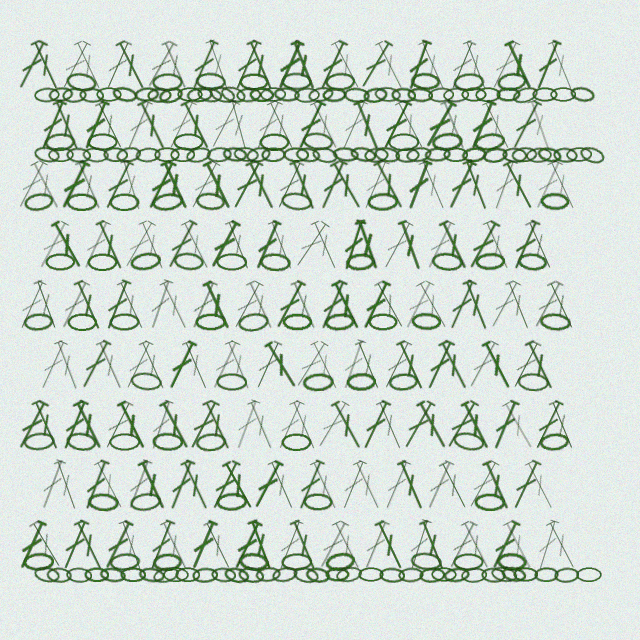chain: (129, 250, 162, 273), (452, 430, 485, 453), (324, 550, 356, 573), (65, 71, 98, 93), (473, 131, 506, 153), (151, 191, 184, 213), (237, 311, 270, 333), (129, 491, 162, 513), (23, 191, 55, 213), (280, 191, 313, 212), (65, 431, 98, 452), (496, 71, 528, 92), (302, 131, 334, 152), (431, 131, 463, 152), (431, 251, 463, 272), (130, 371, 162, 392), (23, 431, 55, 452), (410, 551, 442, 572), (195, 191, 226, 212), (173, 251, 204, 272), (238, 551, 269, 572), (453, 72, 485, 92), (44, 132, 76, 152), (259, 252, 291, 272), (539, 312, 571, 332), (302, 372, 334, 392), (517, 372, 549, 392), (195, 432, 227, 452), (87, 492, 119, 512), (109, 552, 141, 572), (511, 84, 540, 106), (345, 252, 376, 272), (517, 252, 548, 272), (23, 312, 54, 332), (324, 312, 355, 332), (388, 372, 419, 392), (539, 432, 570, 452), (152, 552, 183, 572), (578, 144, 606, 166), (208, 84, 237, 105), (195, 72, 226, 91), (281, 72, 312, 91), (410, 72, 441, 91), (367, 192, 398, 211), (152, 432, 183, 451), (216, 492, 247, 511), (23, 552, 54, 571), (496, 552, 527, 571), (219, 84, 247, 105), (325, 72, 355, 91), (540, 192, 570, 211), (475, 252, 505, 271), (411, 312, 441, 331), (346, 372, 376, 391), (157, 85, 185, 105), (311, 145, 339, 165), (152, 565, 180, 585), (292, 565, 320, 585), (152, 73, 183, 91), (87, 133, 118, 151), (173, 133, 204, 151), (259, 133, 290, 151), (388, 133, 419, 151), (66, 193, 97, 211), (109, 193, 140, 211), (87, 253, 118, 271), (216, 253, 247, 271), (109, 313, 140, 331), (195, 313, 226, 331), (216, 373, 247, 391), (109, 433, 140, 451), (281, 433, 312, 451), (474, 493, 505, 511), (281, 553, 312, 571), (453, 553, 484, 571), (239, 73, 269, 91), (185, 145, 212, 165), (536, 145, 563, 165), (45, 253, 75, 271), (67, 313, 97, 331), (282, 313, 312, 331), (368, 313, 398, 331), (303, 493, 333, 511), (223, 565, 250, 585), (307, 85, 335, 104), (33, 145, 61, 164), (349, 145, 377, 164), (373, 145, 401, 164), (405, 145, 433, 164), (33, 565, 61, 584), (271, 565, 299, 584), (335, 565, 363, 584), (490, 565, 518, 584), (111, 85, 138, 104), (569, 85, 596, 104), (115, 145, 142, 164), (245, 145, 272, 164), (500, 565, 527, 584), (237, 566, 265, 584), (196, 86, 223, 104), (362, 86, 389, 104), (99, 566, 126, 584), (138, 566, 165, 584), (443, 566, 470, 584), (295, 146, 321, 164), (482, 146, 508, 164), (305, 566, 331, 584), (186, 86, 213, 103), (273, 86, 300, 103), (374, 86, 401, 103), (332, 146, 359, 163), (424, 146, 451, 163), (511, 146, 538, 163), (48, 86, 74, 103), (134, 86, 160, 103), (206, 146, 232, 163), (222, 146, 248, 163), (233, 146, 259, 163), (461, 146, 487, 163), (255, 566, 281, 583), (343, 87, 370, 103), (82, 147, 109, 163), (34, 87, 60, 103), (294, 87, 320, 103), (407, 87, 433, 103), (428, 87, 454, 103), (443, 87, 469, 103), (135, 147, 161, 163), (526, 147, 552, 163), (46, 567, 72, 583), (66, 567, 92, 583), (192, 567, 218, 583), (379, 567, 405, 583), (398, 567, 424, 583), (419, 567, 445, 583), (461, 567, 487, 583), (62, 87, 87, 103), (79, 87, 104, 103), (147, 87, 172, 103), (236, 87, 261, 103), (322, 87, 347, 103), (391, 87, 416, 103), (66, 147, 91, 163), (364, 147, 389, 163), (395, 147, 420, 163), (502, 147, 527, 163), (553, 147, 578, 163), (211, 567, 236, 583), (481, 567, 506, 583), (554, 567, 579, 583), (96, 87, 122, 102), (177, 87, 203, 102), (260, 87, 286, 102), (461, 87, 487, 102), (475, 87, 501, 102), (532, 87, 558, 102), (550, 87, 576, 102), (48, 147, 74, 162), (154, 147, 180, 162), (283, 147, 309, 162), (566, 147, 592, 162), (120, 567, 146, 582), (163, 567, 189, 582), (358, 567, 384, 582), (431, 567, 457, 582), (576, 567, 602, 582), (249, 87, 274, 102), (496, 87, 521, 102), (103, 147, 128, 162), (170, 147, 195, 162), (261, 147, 286, 162), (443, 147, 468, 162), (84, 567, 109, 582), (175, 567, 200, 582), (325, 567, 350, 582), (513, 567, 538, 582), (534, 567, 559, 582)
double: (289, 218, 333, 271), (290, 338, 332, 391), (25, 518, 67, 571), (326, 158, 367, 212), (412, 278, 453, 332), (398, 398, 439, 452), (498, 398, 539, 452), (218, 458, 259, 512), (355, 38, 396, 91), (261, 338, 302, 391), (312, 398, 353, 451), (441, 398, 482, 451), (55, 38, 95, 92), (26, 158, 66, 212), (184, 158, 224, 212), (227, 158, 267, 212), (499, 158, 539, 212), (33, 218, 73, 272), (377, 218, 417, 272), (463, 218, 503, 272), (227, 278, 267, 332), (12, 398, 52, 452), (155, 398, 195, 452), (327, 398, 367, 452), (313, 518, 353, 572), (141, 38, 181, 91), (420, 98, 460, 151), (47, 218, 87, 271), (119, 218, 159, 271), (370, 278, 410, 331), (463, 458, 503, 511), (112, 38, 151, 92), (377, 98, 416, 152), (55, 158, 94, 212), (55, 278, 94, 332), (327, 278, 366, 332), (399, 278, 438, 332), (69, 398, 108, 452), (98, 398, 137, 452), (184, 398, 223, 452), (499, 518, 538, 572), (542, 518, 581, 572), (327, 38, 366, 91), (205, 98, 244, 151), (391, 98, 430, 151), (12, 158, 51, 211), (370, 158, 409, 211), (162, 218, 201, 271), (205, 218, 244, 271), (270, 278, 309, 331), (485, 278, 524, 331), (528, 278, 567, 331), (76, 338, 115, 391), (463, 338, 502, 391), (413, 398, 452, 451), (90, 458, 129, 511), (248, 458, 287, 511), (13, 38, 51, 92), (371, 38, 409, 92), (486, 38, 524, 92), (500, 38, 538, 92), (91, 98, 129, 152), (177, 98, 215, 152), (306, 98, 344, 152), (478, 98, 516, 152), (507, 98, 545, 152), (99, 158, 137, 212), (142, 158, 180, 212), (156, 158, 194, 212), (199, 158, 237, 212), (242, 158, 280, 212), (529, 158, 567, 212), (543, 158, 581, 212), (77, 218, 115, 272), (177, 218, 215, 272), (421, 218, 459, 272), (435, 218, 473, 272), (206, 338, 244, 392), (306, 338, 344, 392), (378, 338, 416, 392), (392, 338, 430, 392), (435, 338, 473, 392), (478, 338, 516, 392), (507, 338, 545, 392), (521, 338, 559, 392), (113, 398, 151, 452), (457, 398, 495, 452), (529, 398, 567, 452), (206, 458, 244, 512), (435, 458, 473, 512), (507, 458, 545, 512), (521, 458, 559, 512), (70, 518, 108, 572), (99, 518, 137, 572), (199, 518, 237, 572), (228, 518, 266, 572), (328, 518, 366, 572), (371, 518, 409, 572), (443, 518, 481, 572), (457, 518, 495, 572), (486, 518, 524, 572), (27, 38, 64, 92), (70, 38, 107, 92), (314, 38, 351, 92), (414, 38, 451, 92), (134, 98, 171, 152), (163, 98, 200, 152), (263, 98, 300, 152), (292, 98, 329, 152), (271, 158, 308, 212), (443, 158, 480, 212), (507, 218, 544, 272), (521, 218, 558, 272), (13, 278, 50, 332), (70, 278, 107, 332), (113, 278, 150, 332), (156, 278, 193, 332), (185, 278, 222, 332), (199, 278, 236, 332), (242, 278, 279, 332), (357, 278, 394, 332), (543, 278, 580, 332), (120, 338, 157, 392), (163, 338, 200, 392), (421, 338, 458, 392), (199, 398, 236, 452), (285, 398, 322, 452), (357, 398, 394, 452), (134, 458, 171, 512), (177, 458, 214, 512), (263, 458, 300, 512), (306, 458, 343, 512), (349, 458, 386, 512), (421, 458, 458, 512), (156, 518, 193, 572), (100, 38, 136, 92), (157, 38, 193, 92), (186, 38, 222, 92), (229, 38, 265, 92), (272, 38, 308, 92), (444, 38, 480, 92), (49, 98, 85, 152), (250, 98, 286, 152), (336, 98, 372, 152), (436, 98, 472, 152), (71, 158, 107, 212), (315, 158, 351, 212), (415, 158, 451, 212), (92, 218, 128, 272), (307, 218, 343, 272), (479, 218, 515, 272), (286, 278, 322, 332), (315, 278, 351, 332), (444, 278, 480, 332), (35, 338, 71, 392), (92, 338, 128, 392), (135, 338, 171, 392), (178, 338, 214, 392), (250, 338, 286, 392), (350, 338, 386, 392), (28, 398, 64, 452), (243, 398, 279, 452), (272, 398, 308, 452), (372, 398, 408, 452), (487, 398, 523, 452), (544, 398, 580, 452), (393, 458, 429, 512), (479, 458, 515, 512), (14, 518, 50, 572), (57, 518, 93, 572), (286, 518, 322, 572), (415, 518, 451, 572), (35, 457, 70, 512), (243, 38, 278, 92), (530, 38, 565, 92), (544, 38, 579, 92), (35, 98, 70, 152), (78, 98, 113, 152), (121, 98, 156, 152), (350, 98, 385, 152), (465, 98, 500, 152), (286, 158, 321, 212), (358, 158, 393, 212), (135, 218, 170, 272), (221, 218, 256, 272), (250, 218, 285, 272), (264, 218, 299, 272), (100, 278, 135, 332), (501, 278, 536, 332), (221, 338, 256, 392), (57, 398, 92, 452), (164, 458, 199, 512), (293, 458, 328, 512), (336, 458, 371, 512), (379, 458, 414, 512), (186, 518, 221, 572), (358, 518, 393, 572), (201, 37, 235, 92), (523, 97, 557, 152), (351, 217, 385, 272), (29, 277, 63, 332), (230, 397, 264, 452), (122, 457, 156, 512), (244, 517, 278, 572), (287, 38, 321, 92), (459, 38, 493, 92), (402, 158, 436, 212), (459, 158, 493, 212), (459, 278, 493, 332), (50, 338, 84, 392), (79, 458, 113, 512), (144, 518, 178, 572), (273, 518, 307, 572), (144, 277, 177, 332), (337, 337, 370, 392), (402, 38, 435, 92), (488, 158, 521, 212), (394, 218, 427, 272), (50, 458, 83, 512), (115, 518, 148, 572), (403, 517, 435, 572), (145, 398, 177, 452), (116, 158, 147, 212), (338, 218, 369, 272), (532, 518, 563, 572), (224, 98, 254, 152)
